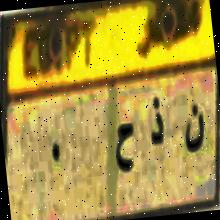0: (43, 124, 70, 173)
7aa: (107, 114, 142, 178)
noon: (174, 96, 214, 165)
zaal: (139, 86, 172, 156)
